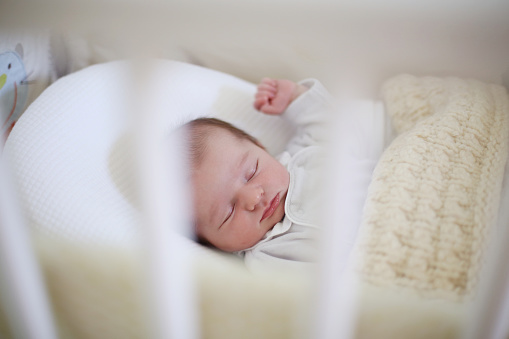deitado: (105, 70, 388, 339)
